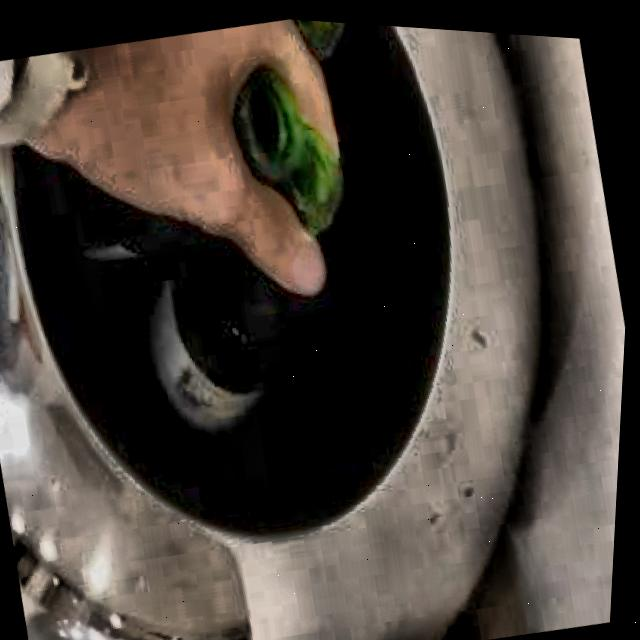glass: (77, 176, 279, 427), (230, 60, 345, 230), (290, 15, 342, 56)
